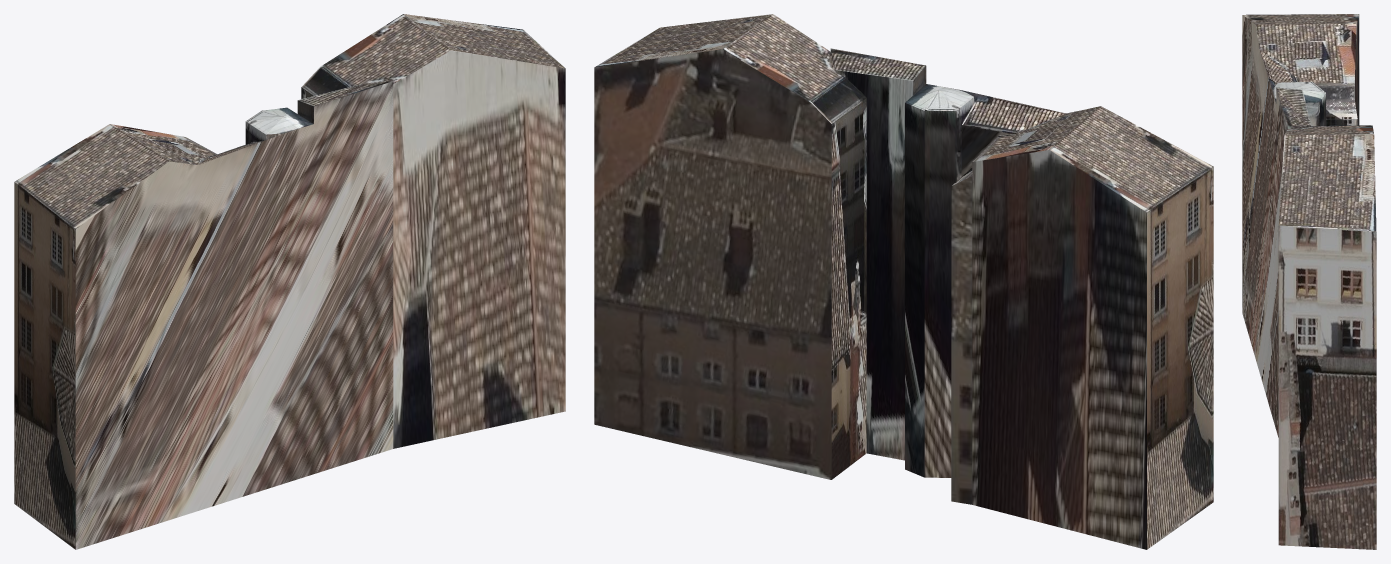
3 renders of one model, left to right at view 1: azimuth 30°, elevation 25°; view 2: azimuth 150°, elevation 25°; view 3: azimuth 270°, elevation 25°, orthographic. The views are drawn at different scales.
Parts seen in each view (by area): view 1: Z_UP; view 2: Z_UP; view 3: Z_UP.
Part boxes in pixels (x1,y1,x2,y2): Z_UP: (14,14,565,549); Z_UP: (594,14,1213,549); Z_UP: (1242,14,1376,549).
Size of the model in its own units: 36.74 by 26.17 by 8.81.
Materials: 2 (1 with a texture image).
